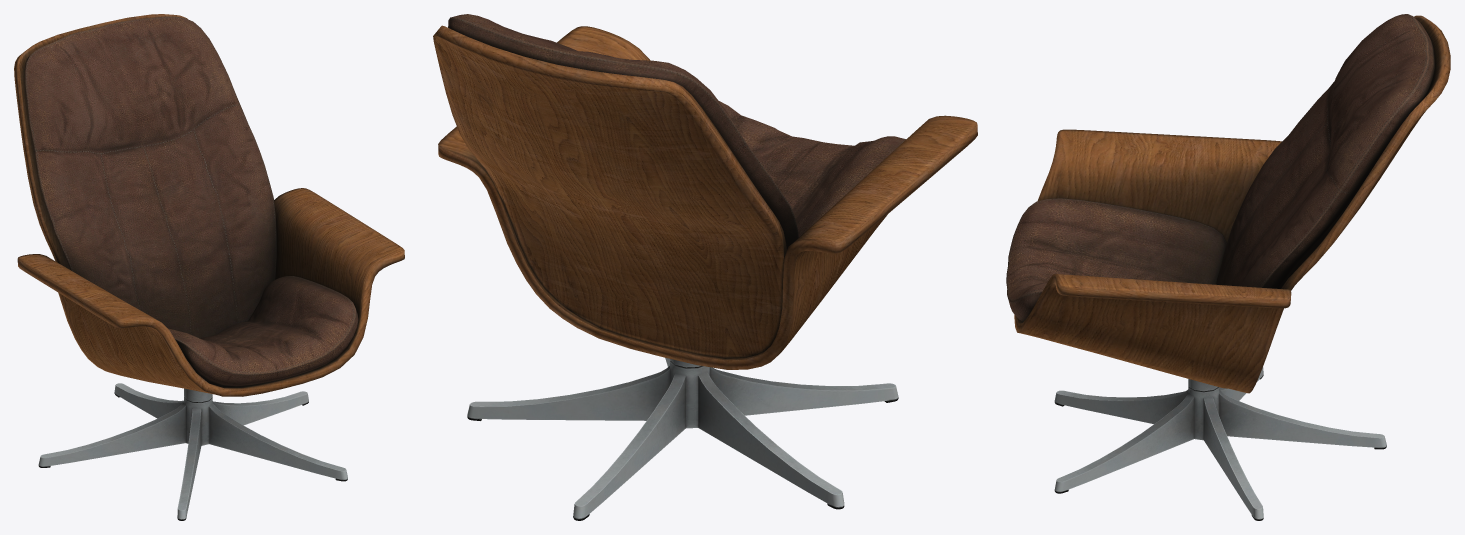
Rendered from ph-chair-lounge.glb.
3 renders of one model, left to right at view 1: azimuth 30°, elevation 25°; view 2: azimuth 150°, elevation 25°; view 3: azimuth 270°, elevation 25°, orthographic. The views are drawn at different scales.
Visible parts, largest first — view 1: mid_century_lounge_chair; view 2: mid_century_lounge_chair; view 3: mid_century_lounge_chair.
Part boxes in pixels (x1=…): mid_century_lounge_chair: x1=14, y1=14, x2=404, y2=520; mid_century_lounge_chair: x1=433, y1=14, x2=977, y2=520; mid_century_lounge_chair: x1=1006, y1=14, x2=1450, y2=520.
Bounding box in the file's own units: 1.01 × 1.17 × 1.19.
1 material, 1 textured.
